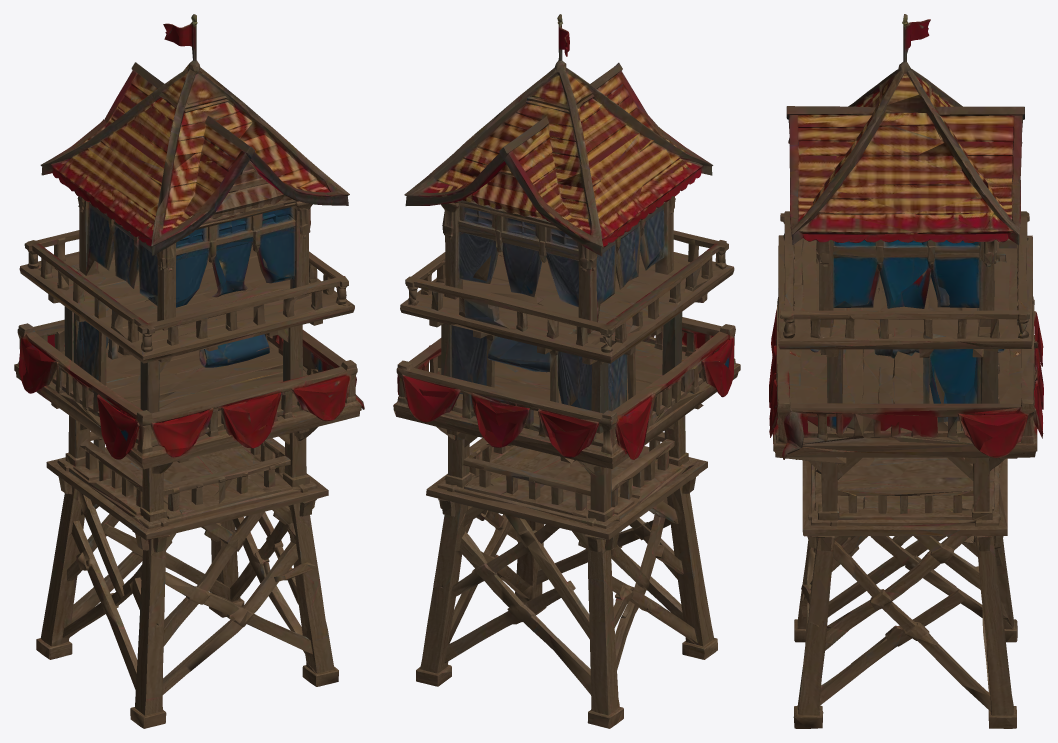
File: stand.lo.glb
3 renders of one model, left to right at view 1: azimuth 30°, elevation 25°; view 2: azimuth 150°, elevation 25°; view 3: azimuth 270°, elevation 25°, orthographic. The views are drawn at different scales.
Visible parts, largest first — view 1: placed; view 2: placed; view 3: placed.
Boxes of the visible parts, box(x1,y1,x2,y2) form: placed: box(14, 14, 364, 728); placed: box(393, 14, 740, 728); placed: box(769, 14, 1043, 728).
Bounding box in the file's own units: 8.35 × 22 × 8.19.
1 material, 1 textured.
